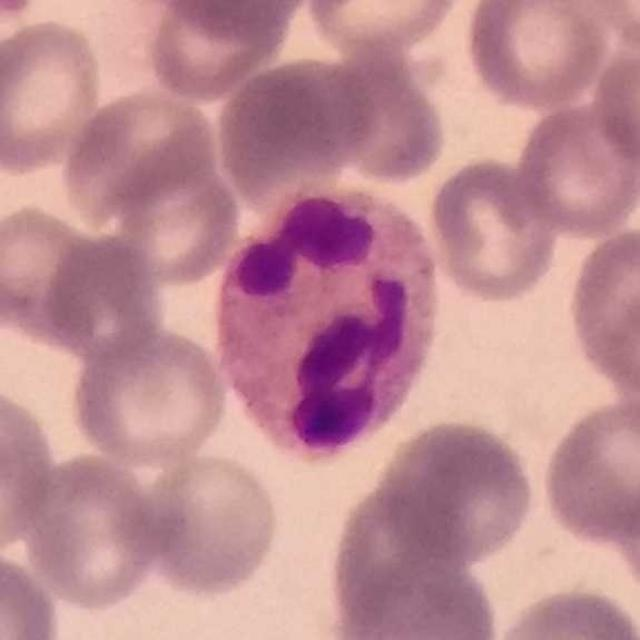Neutrophil: (202, 179, 450, 475)
RBC: (323, 478, 500, 640), (369, 414, 540, 569), (210, 52, 387, 197), (17, 449, 169, 613), (57, 85, 225, 232), (67, 322, 231, 469), (134, 446, 285, 601), (424, 151, 563, 306), (100, 149, 245, 288), (510, 95, 640, 239), (0, 13, 108, 180), (459, 0, 617, 112), (536, 390, 640, 556), (135, 0, 299, 105), (0, 196, 112, 348), (562, 219, 640, 403), (0, 384, 60, 558), (299, 0, 471, 57), (484, 582, 640, 640), (142, 0, 320, 40), (590, 36, 640, 174), (0, 545, 63, 639), (612, 438, 640, 610), (584, 0, 639, 53), (0, 1, 47, 40)
